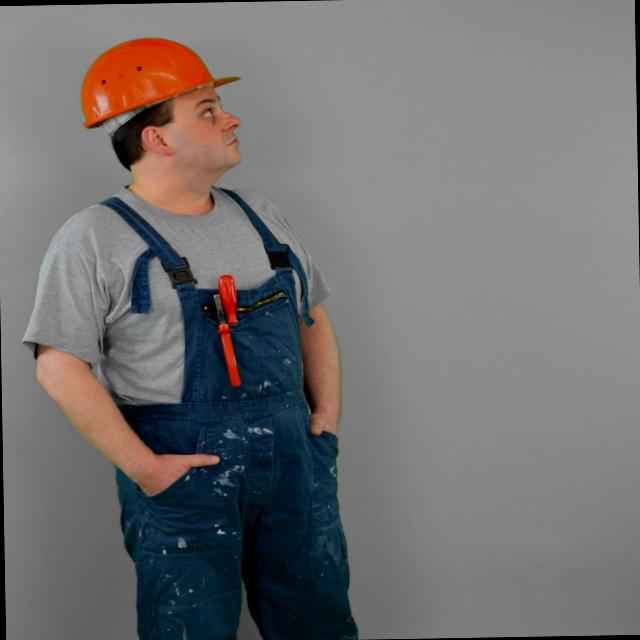helmet: (62, 32, 258, 135)
no-goggles: (151, 98, 253, 144)
no-vest: (46, 181, 326, 467)
